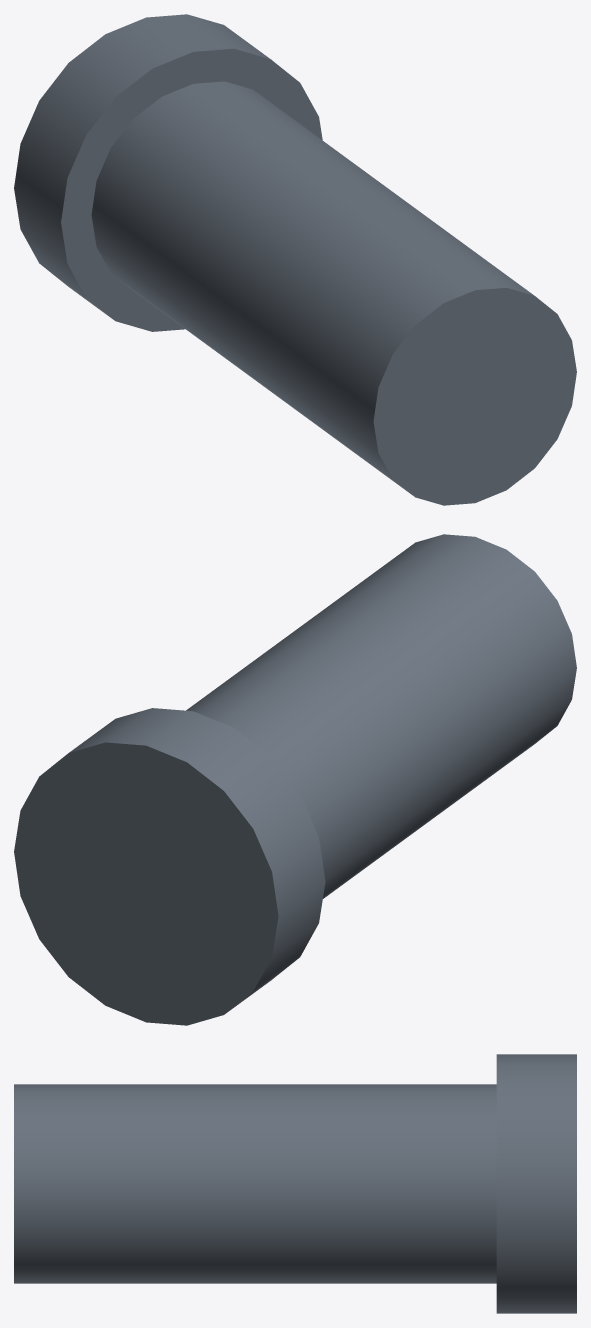
Rendered from heavy_laser_lens.glb.
The picture shows the model from 3 angles, top to bottom: view 1: azimuth 30°, elevation 25°; view 2: azimuth 150°, elevation 25°; view 3: azimuth 270°, elevation 25°; orthographic projection. The views are drawn at different scales.
Visible parts, largest first — view 1: heavy_laser_lens; view 2: heavy_laser_lens; view 3: heavy_laser_lens.
Boxes of the visible parts, <box> form: heavy_laser_lens: <box>14,14,576,505</box>; heavy_laser_lens: <box>14,534,576,1025</box>; heavy_laser_lens: <box>14,1054,576,1313</box>.
Size of the model in its own units: 0.26 by 0.26 by 0.56.
